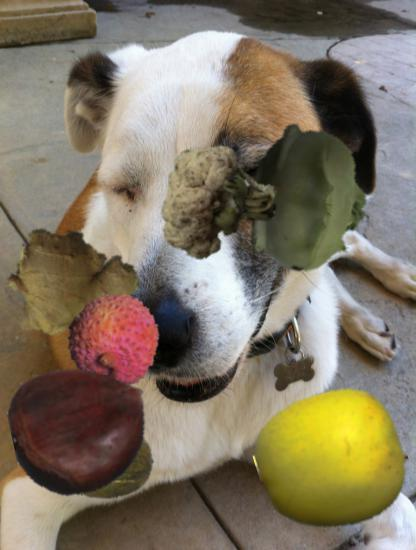Apple: (258, 387, 406, 535)
Cauliflower: (160, 143, 280, 263)
Chestnut: (12, 360, 151, 499)
Ginger: (5, 218, 140, 353)
Kohlrabi: (229, 125, 377, 273)
Lychee: (66, 291, 165, 390)
Melon: (37, 402, 155, 520)
